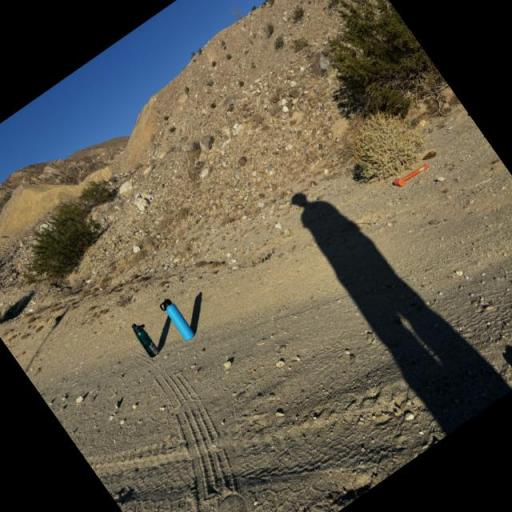bottle: (152, 290, 202, 348)
mallet: (386, 153, 436, 197)
